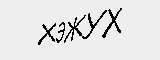Ж: (62, 15, 86, 42)
У: (81, 7, 108, 43)
Х: (100, 7, 122, 40), (38, 22, 55, 44)
Э: (54, 19, 67, 47)
